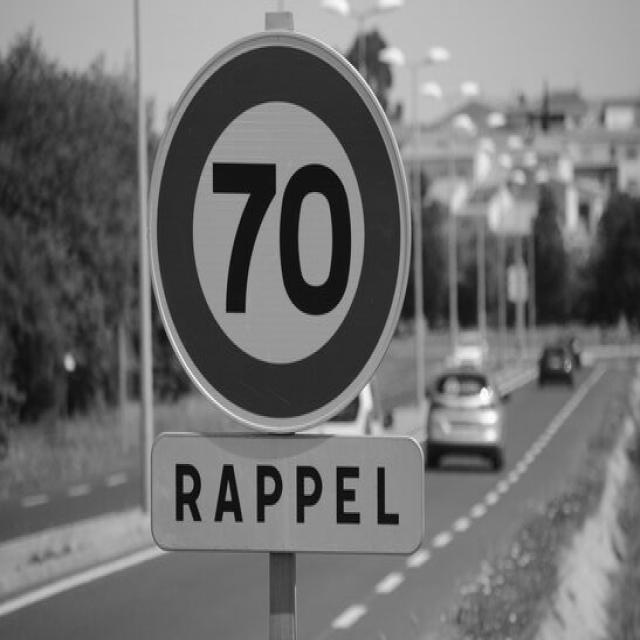speed_70: (146, 29, 414, 433)
